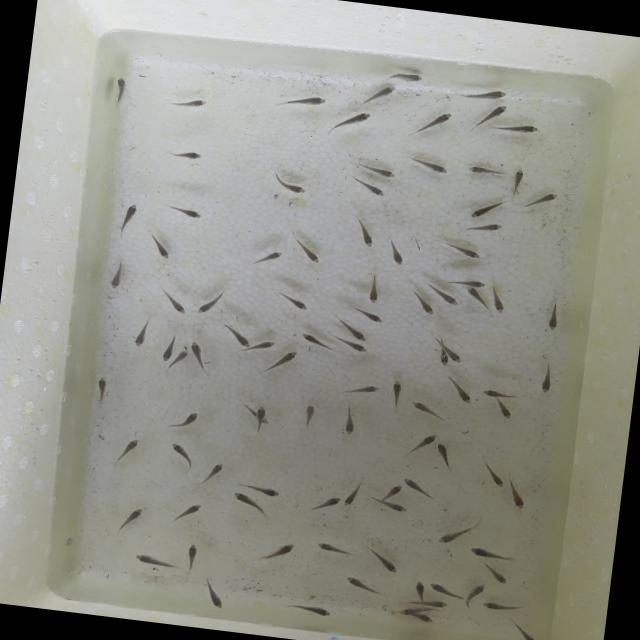fingerling: (325, 104, 377, 141), (406, 105, 458, 142), (284, 230, 326, 268), (157, 89, 210, 118), (274, 88, 329, 114), (436, 516, 482, 547), (403, 151, 454, 178), (357, 79, 400, 110), (267, 168, 312, 197), (113, 501, 147, 539), (110, 432, 144, 469), (488, 117, 545, 139), (338, 570, 384, 597), (153, 285, 193, 316), (455, 82, 511, 104), (270, 286, 314, 314), (225, 489, 269, 517), (112, 200, 142, 241), (347, 212, 381, 248), (162, 405, 201, 436), (128, 548, 178, 572), (407, 397, 451, 424), (521, 187, 561, 216), (362, 546, 402, 575), (476, 454, 508, 490), (468, 541, 518, 564), (244, 245, 288, 271), (304, 490, 342, 520), (349, 173, 391, 200), (266, 347, 302, 378), (169, 497, 205, 528), (166, 439, 196, 476), (257, 537, 298, 564), (437, 238, 483, 262), (312, 536, 358, 560), (160, 200, 210, 222), (234, 477, 286, 498), (108, 70, 134, 112), (196, 282, 228, 316), (161, 143, 208, 166), (198, 574, 228, 610), (477, 595, 528, 616), (502, 474, 530, 512), (468, 195, 507, 222), (354, 160, 401, 182), (286, 600, 336, 620), (405, 428, 438, 458), (382, 232, 409, 268), (218, 321, 254, 348), (464, 161, 507, 183), (383, 66, 428, 87), (145, 230, 175, 261), (346, 306, 392, 326), (401, 475, 437, 500), (444, 376, 476, 404), (200, 456, 227, 489), (338, 400, 362, 437), (461, 218, 507, 237), (540, 296, 564, 332), (480, 100, 513, 126), (431, 284, 464, 310), (507, 618, 546, 640), (342, 475, 366, 510), (479, 562, 513, 586), (407, 289, 436, 317), (298, 330, 334, 352), (426, 578, 462, 600), (463, 285, 491, 313), (363, 272, 386, 305), (538, 359, 558, 396), (489, 283, 512, 315), (93, 372, 114, 407), (342, 380, 382, 398), (444, 274, 488, 290), (182, 540, 202, 575), (433, 440, 456, 470), (508, 164, 528, 198), (107, 259, 127, 293), (132, 315, 150, 350), (482, 386, 522, 401), (492, 396, 516, 421), (300, 400, 318, 430), (389, 376, 404, 411), (466, 580, 491, 600), (252, 404, 266, 438), (342, 339, 371, 355), (160, 334, 175, 362), (386, 482, 406, 501), (256, 336, 277, 354), (384, 500, 411, 514), (350, 326, 370, 344), (173, 347, 190, 368), (412, 576, 427, 598), (425, 598, 452, 610), (188, 338, 205, 355), (397, 604, 418, 616), (416, 612, 436, 624), (449, 353, 465, 364), (438, 356, 451, 366)
